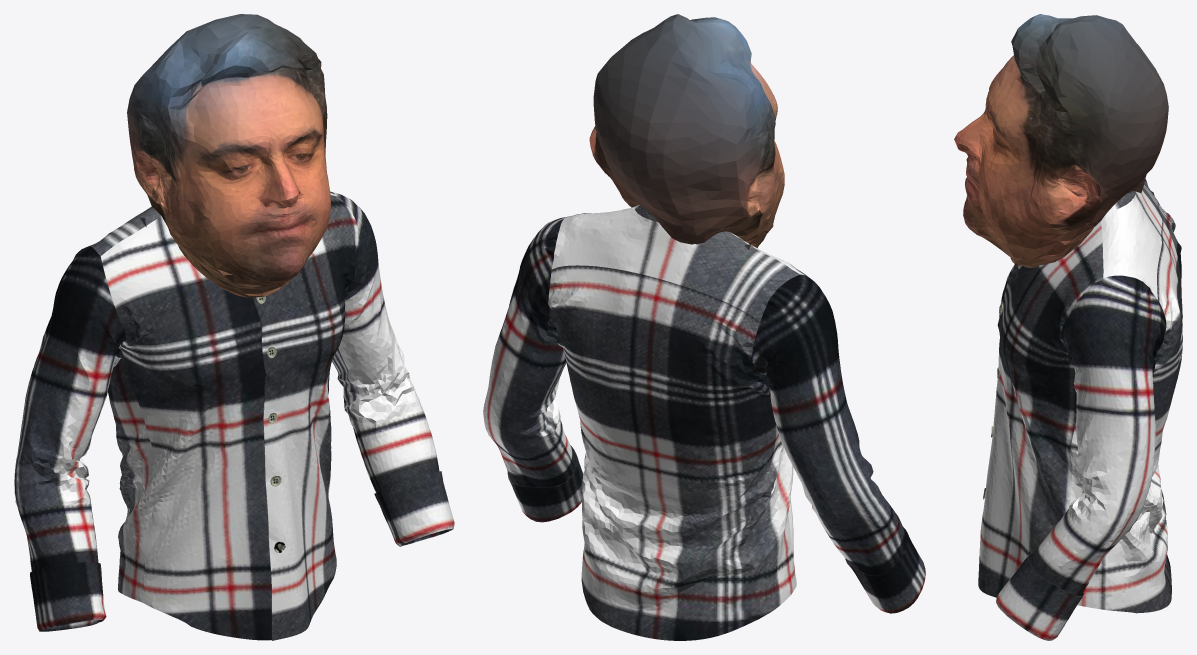
The model's file is asset.glb.
3 renders of one model, left to right at view 1: azimuth 30°, elevation 25°; view 2: azimuth 150°, elevation 25°; view 3: azimuth 270°, elevation 25°, orthographic. The views are drawn at different scales.
Size of the model in its own units: 0.6449 by 0.8873 by 0.3206.
Materials: 4 (4 with a texture image).
